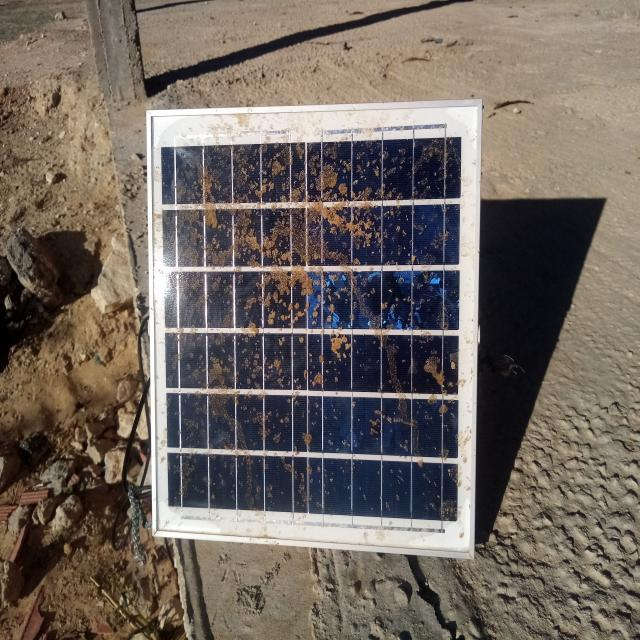faulty: (149, 102, 479, 556)
